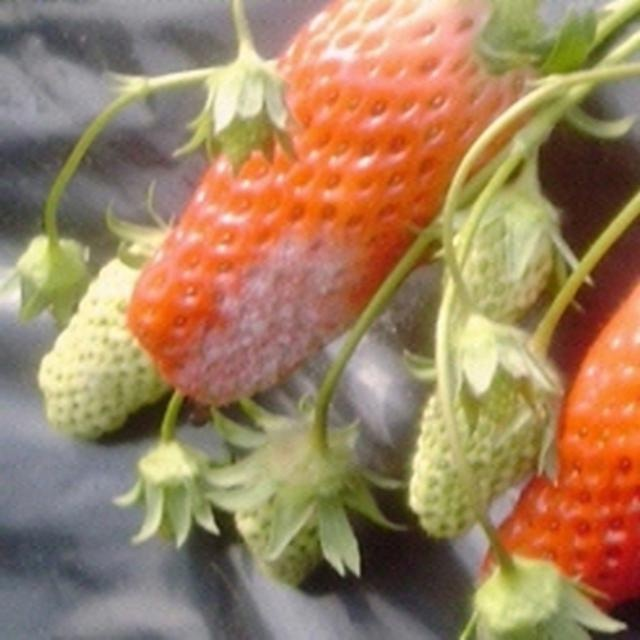Powdery Mildew Fruit: (156, 210, 380, 408)
